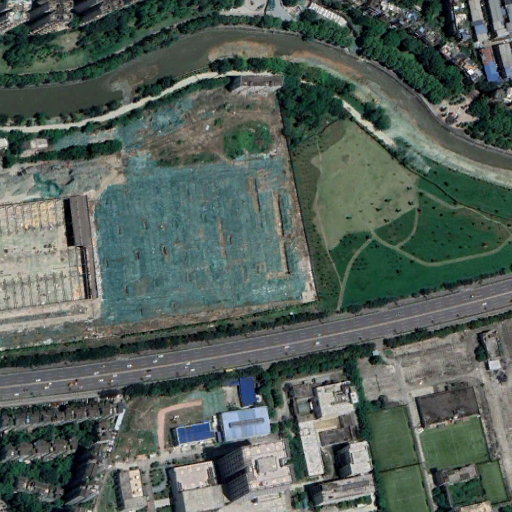cw: (88, 88, 312, 326)
